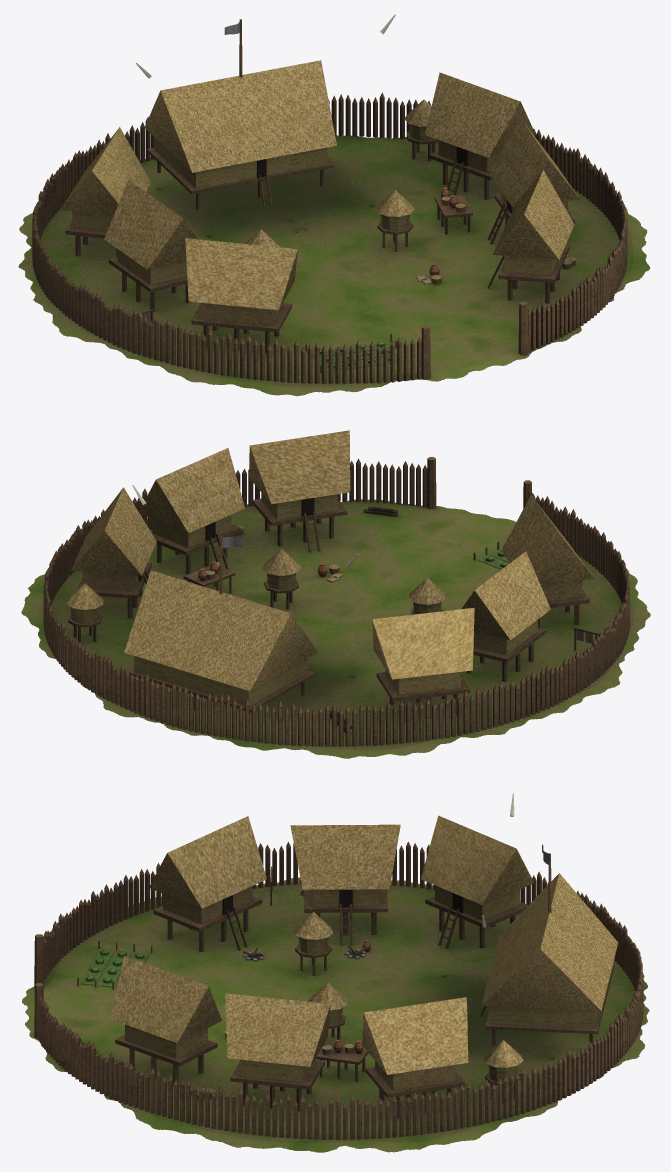
Rendered from stone-town-small-a-monsoon.glb.
3 renders of one model, top to bottom at view 1: azimuth 30°, elevation 25°; view 2: azimuth 150°, elevation 25°; view 3: azimuth 270°, elevation 25°, orthographic. The views are drawn at different scales.
Parts seen in each view (by area): view 1: LOD0; view 2: LOD0; view 3: LOD0.
Part boxes in pixels (x1=…): LOD0: x1=18, y1=14, x2=650, y2=396; LOD0: x1=21, y1=430, x2=650, y2=758; LOD0: x1=22, y1=793, x2=649, y2=1152.
Size of what is drawn, in the model's own units: 3.98 by 1.1 by 3.81.
Materials: 3 (3 with a texture image).
